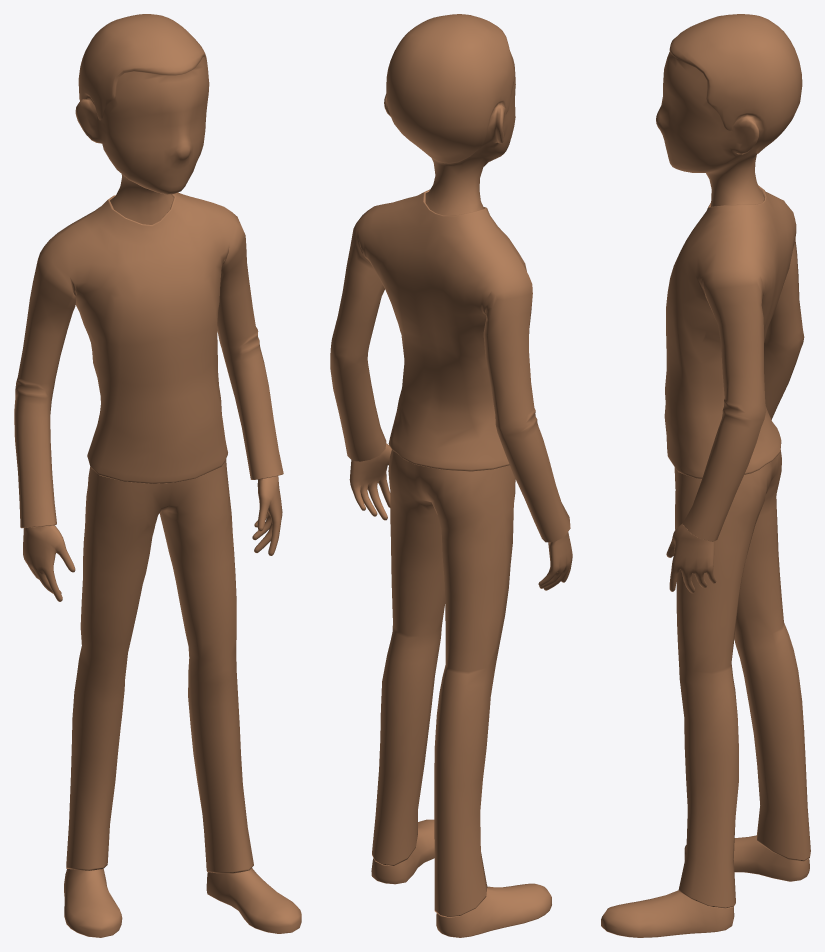
File: Man.glb
3 views of the same model, side by side, from view 1: azimuth 30°, elevation 25°; view 2: azimuth 150°, elevation 25°; view 3: azimuth 270°, elevation 25° (orthographic).
Parts seen in each view (by area): view 1: mesh_id37; view 2: mesh_id37; view 3: mesh_id37.
Boxes of the visible parts, box(x1,y1,x2,y2) form: mesh_id37: box(14, 14, 301, 937); mesh_id37: box(330, 14, 572, 937); mesh_id37: box(601, 14, 810, 937).
Size of the model in its own units: 0.0776 by 0.274 by 0.06.
1 material, 1 textured.
